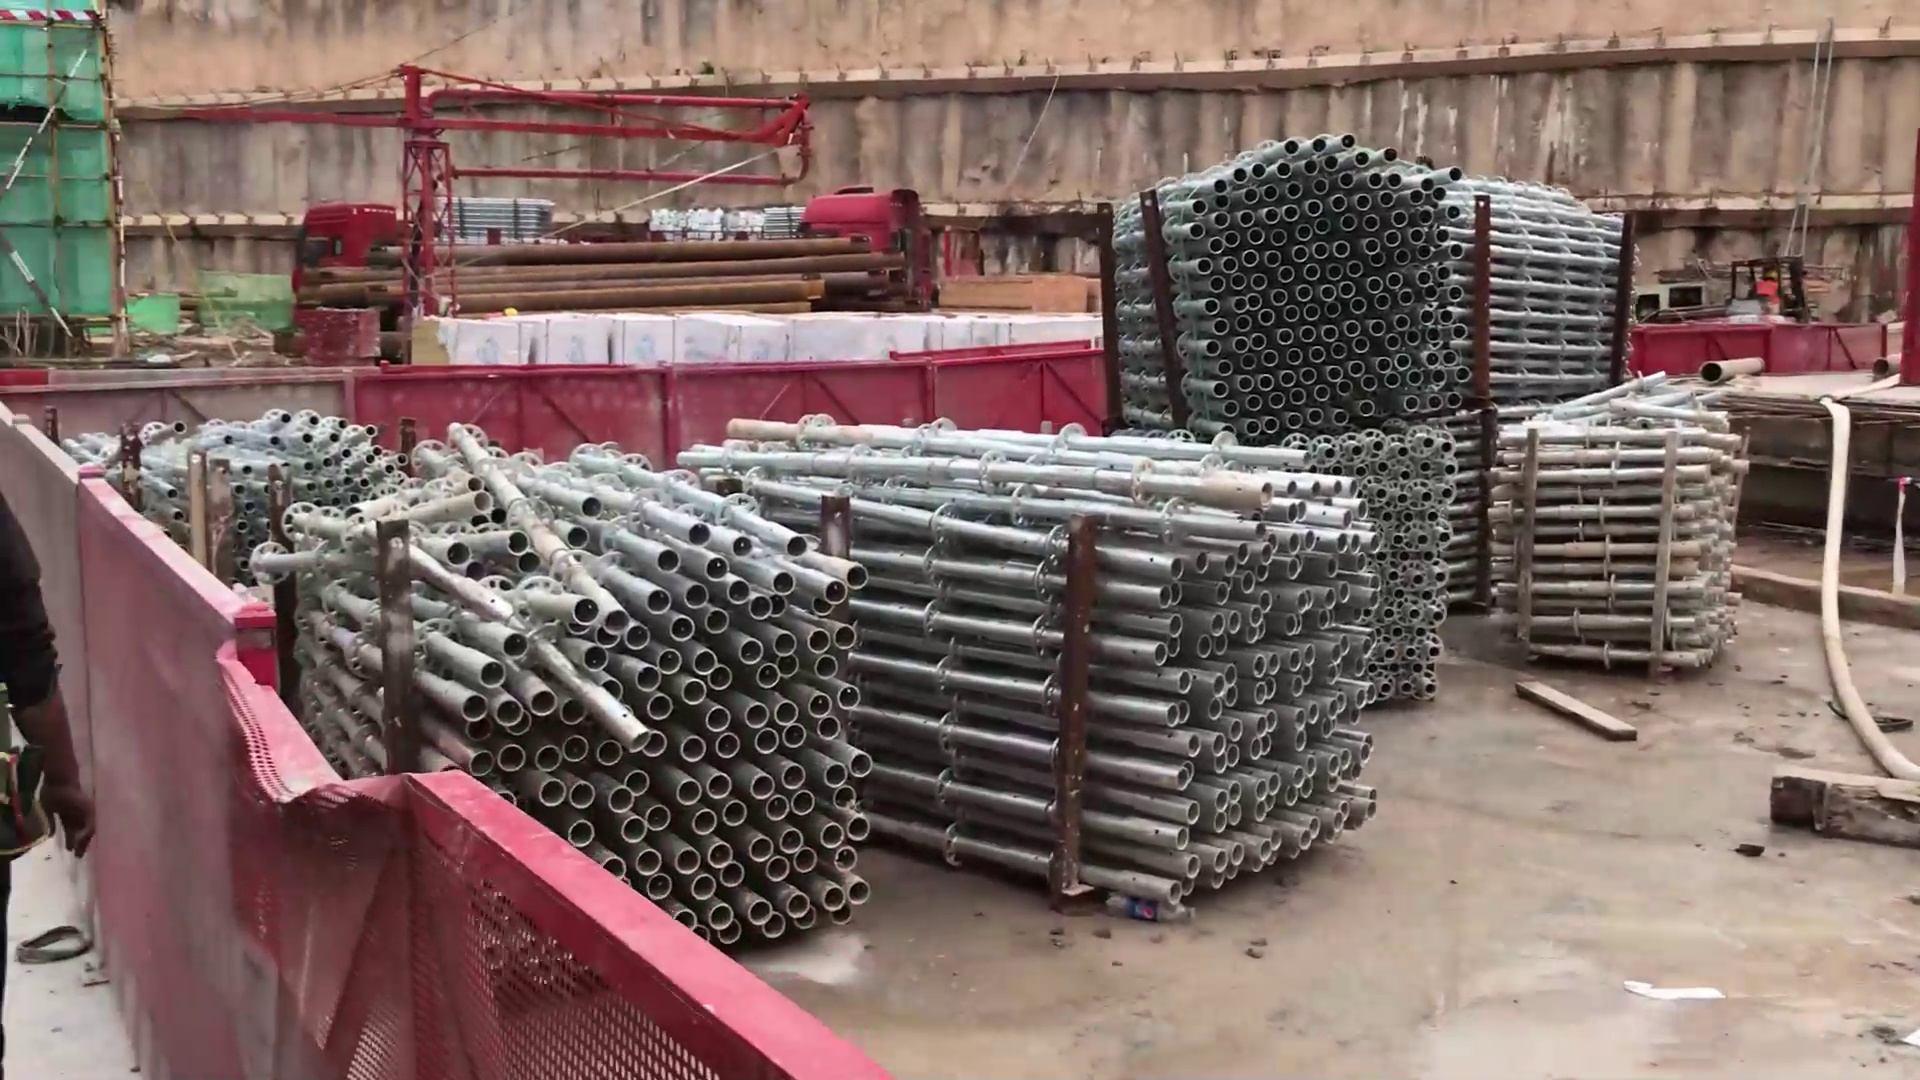fence: (102, 553, 740, 1080), (382, 367, 786, 433)
scaffold: (848, 398, 1395, 922), (291, 435, 864, 811), (1174, 135, 1648, 442), (1477, 382, 1745, 705)
wood: (945, 270, 1095, 330)
